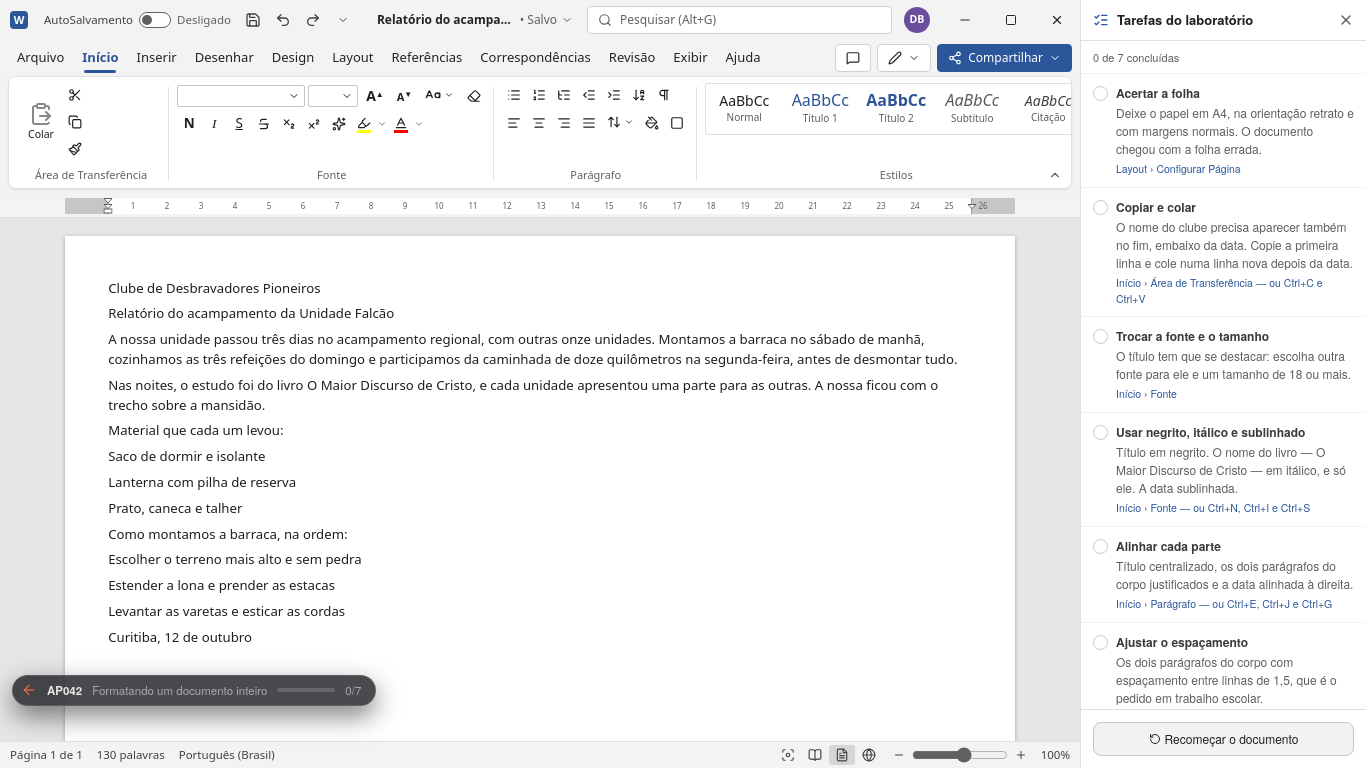
Test: a faixa de opções › traz todas as guias, e Início e Layout com a faixa do laboratório
Click the tab "Design". click: (293, 58)
box: [263,40,323,76]
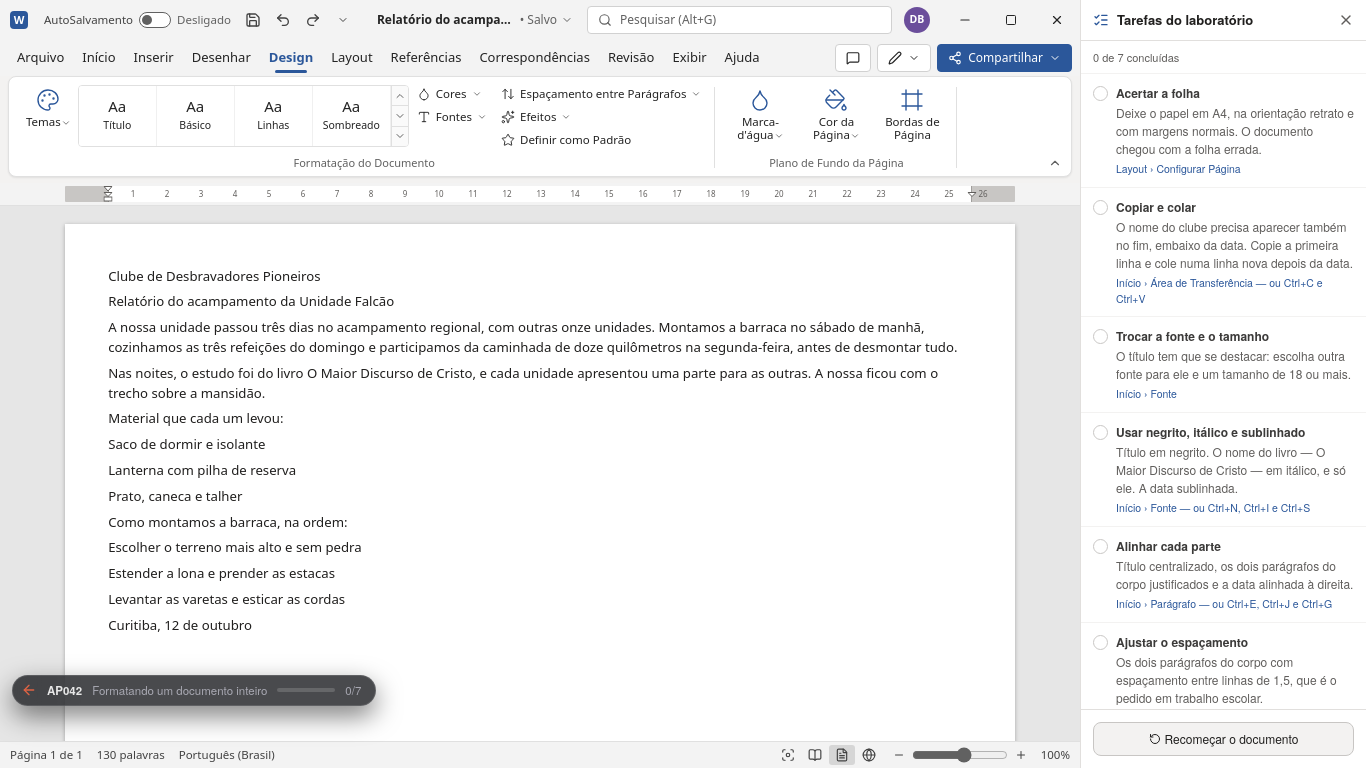
Check: the panel with class "of-faixa-padrao" is shown, box [8,76,1072,176]
Click the tab "Layout". click: (352, 58)
box: [322,40,382,76]
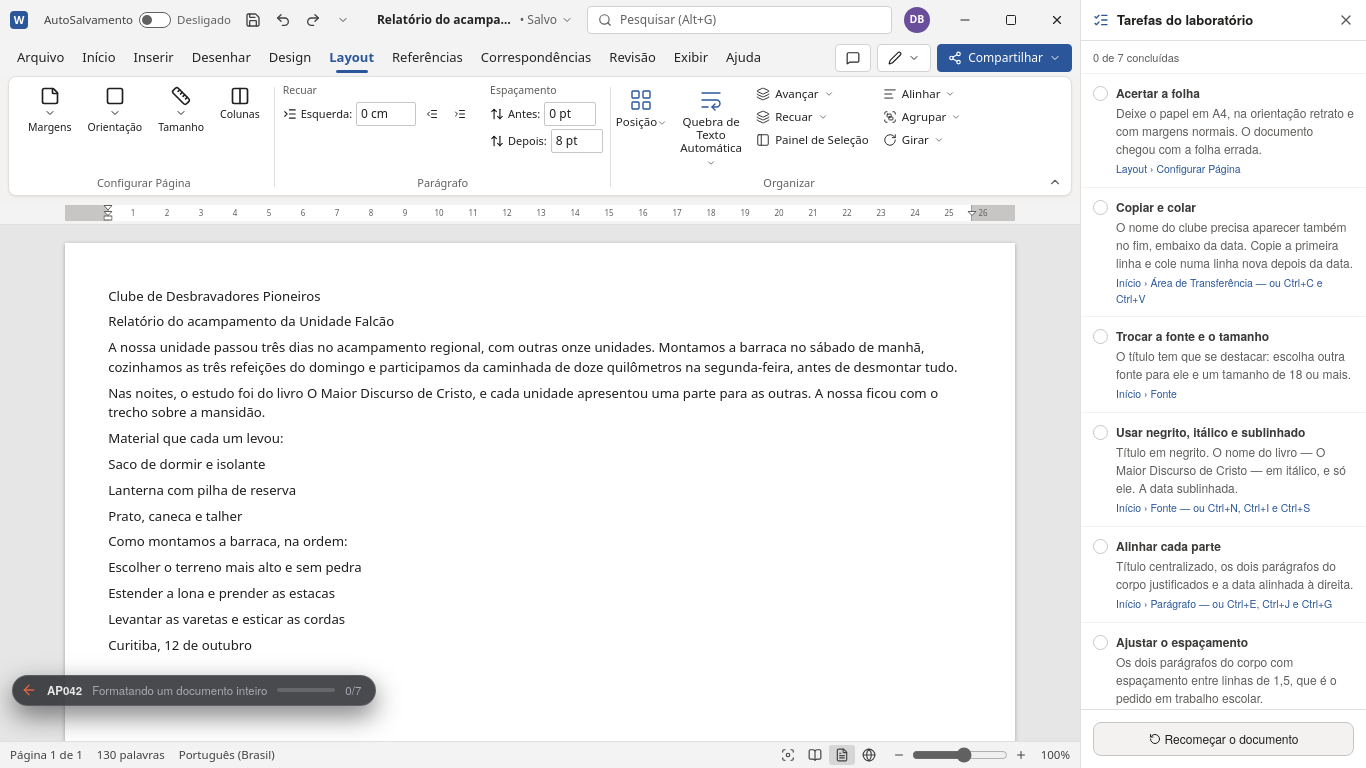
Check: the panel with class "of-faixa-padrao" is gone
